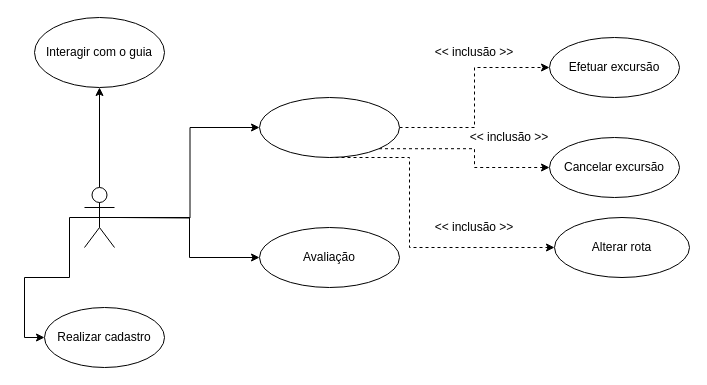
Image size: 707x385. Some labels were removed from this diagram. Here are the shapes that lost their labels. From the top down, the centre of each, then its label:
(329,127): Localização
(99,217): Usuario
